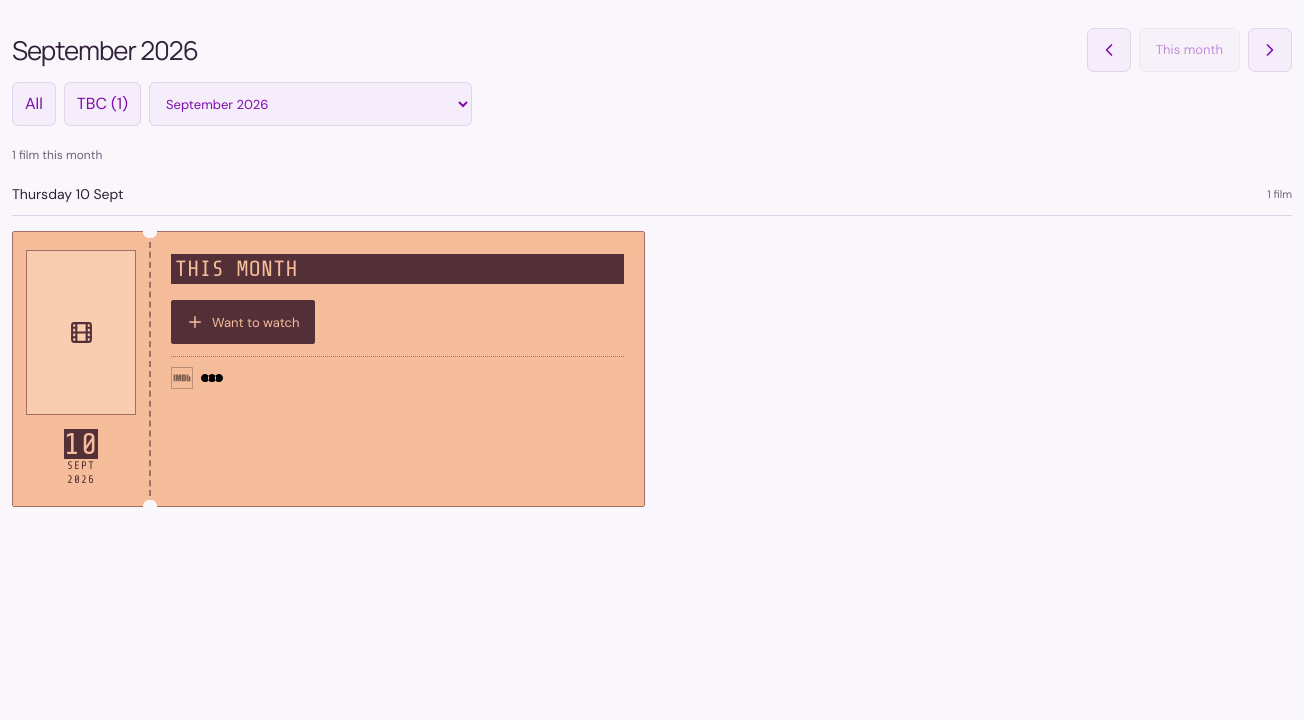
includes the previous month's first day and all future dates, keeps TBC separate and restores the selected month
This screenshot has width=1304, height=720.
Click the button "All" at (34, 104), box 12,82 -> 56,126
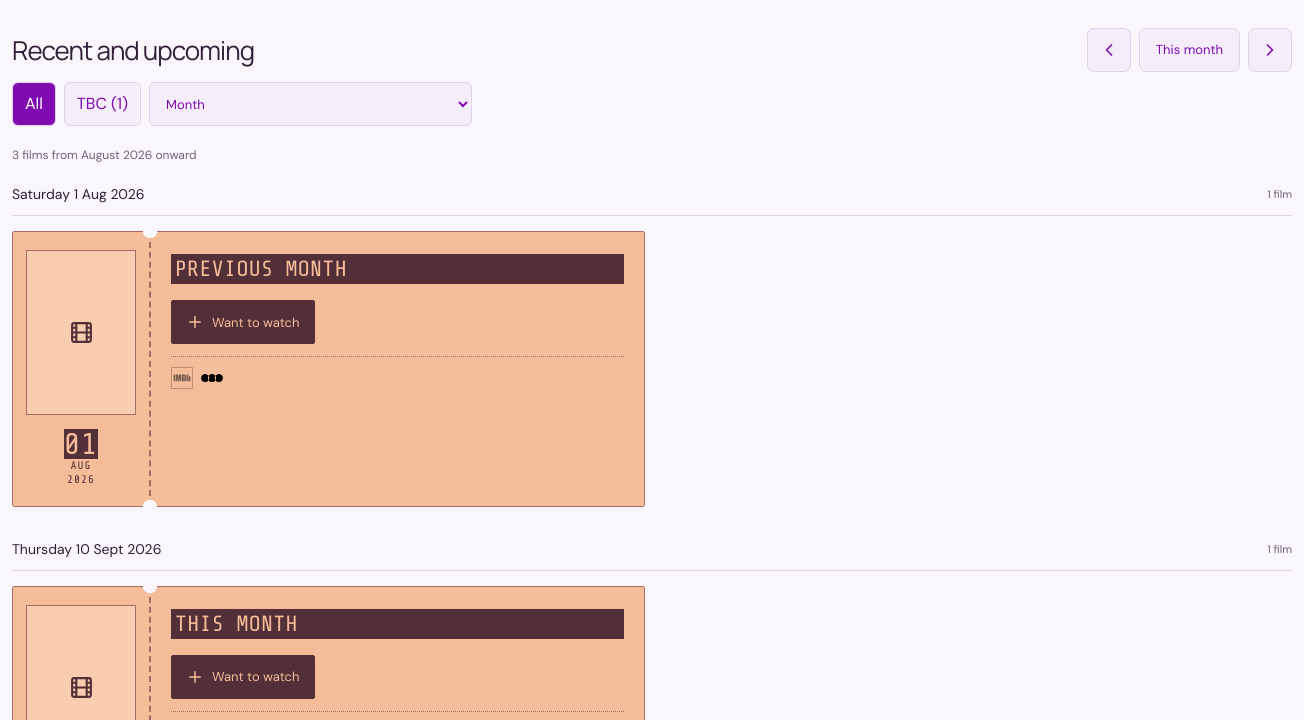
Result: the message reads "3 films from August 2026 onward" at 12,147 -> 197,163
Result: the dropdown shows "Month" at 149,82 -> 472,126
Click the button "TBC (1)" at (102, 104), box 64,82 -> 141,126
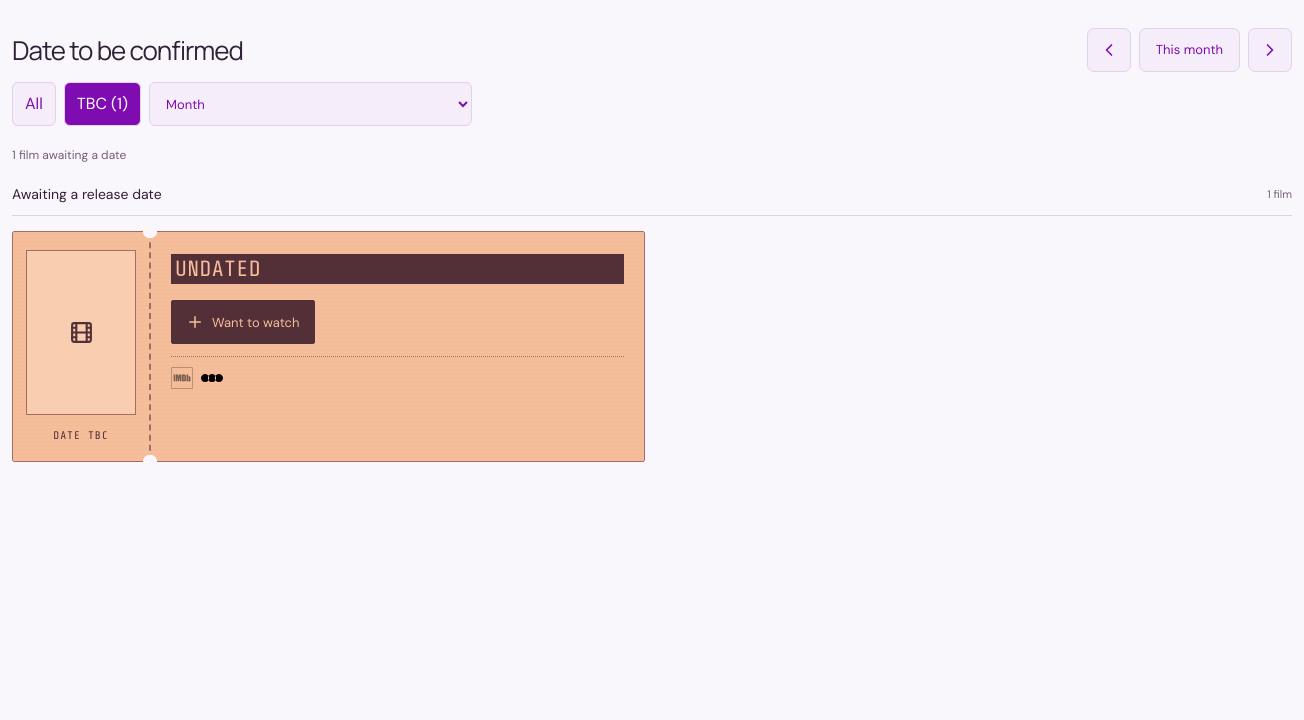
Result: the element "Undated" is shown at 12,231 -> 645,462
Click the button "TBC (1)" at (102, 104), box 64,82 -> 141,126
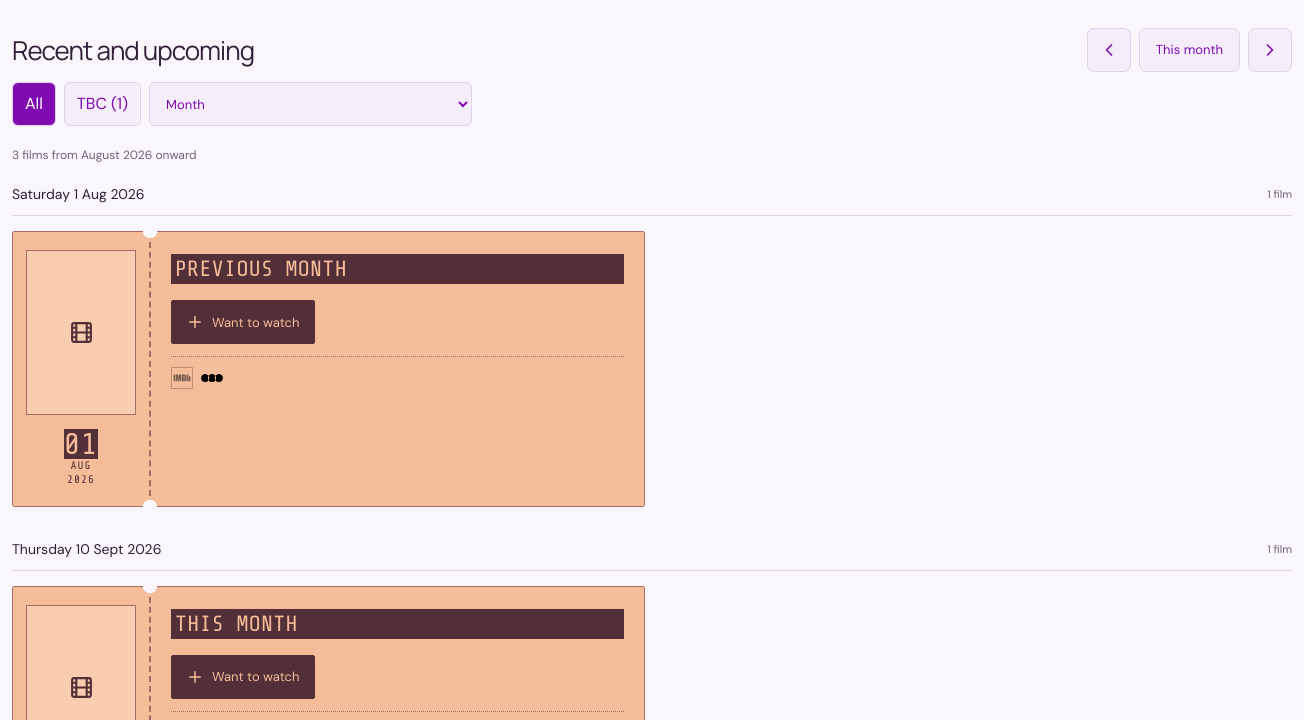
Click the button "All" at (34, 104), box 12,82 -> 56,126
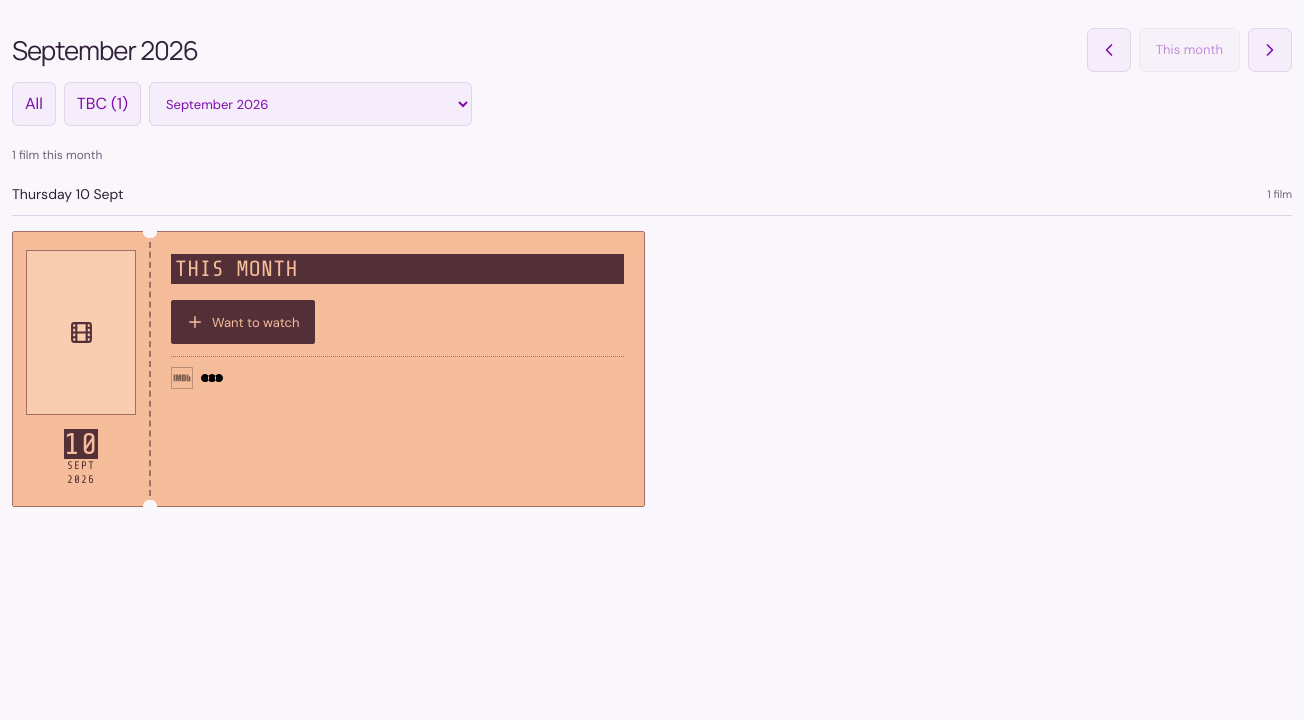
Result: the dropdown shows "September 2026" at 149,82 -> 472,126
